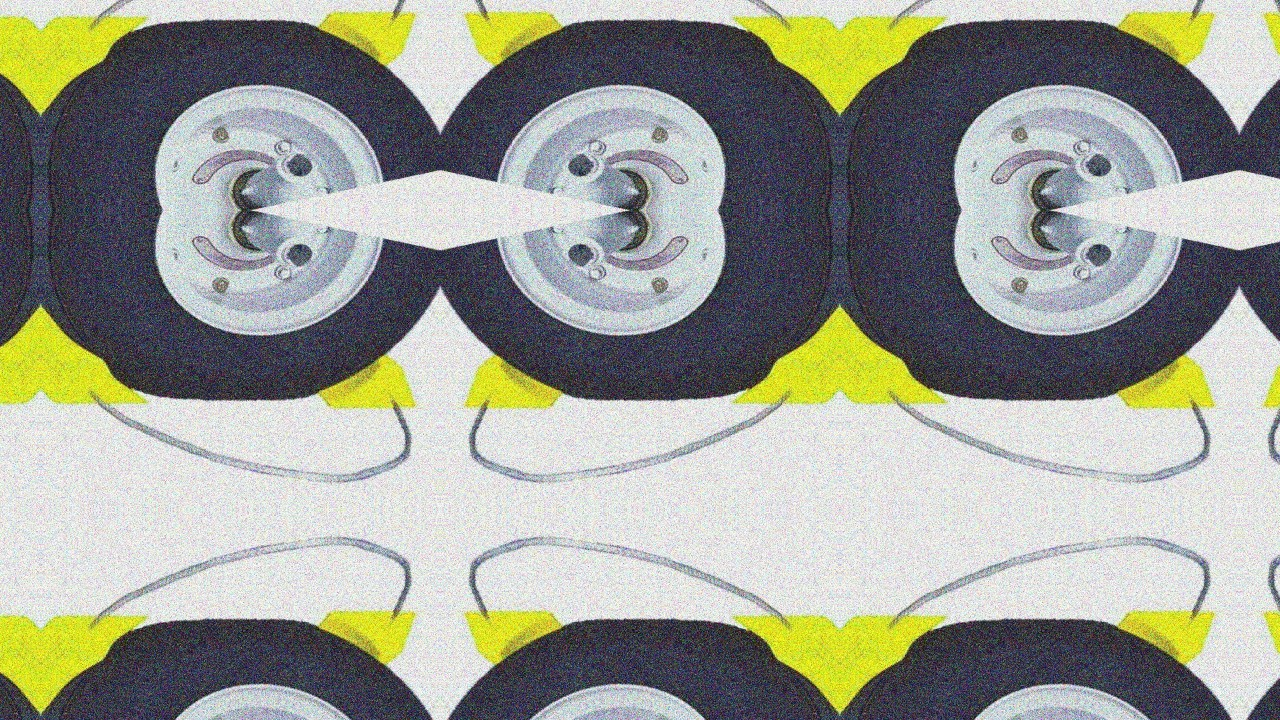chock: (40, 299, 160, 428), (720, 299, 840, 428), (840, 299, 960, 428), (40, 592, 160, 720), (720, 592, 840, 720), (840, 592, 960, 720), (40, 0, 160, 121), (720, 0, 840, 121), (840, 0, 960, 121), (297, 329, 427, 429), (453, 329, 583, 429), (1097, 329, 1227, 429), (297, 591, 427, 691), (453, 591, 583, 691), (1097, 591, 1227, 691), (297, 0, 427, 91), (453, 0, 583, 91), (1097, 0, 1227, 91), (0, 299, 40, 428), (0, 592, 40, 720), (0, 0, 40, 121), (1253, 329, 1280, 429), (1253, 591, 1280, 691), (1253, 0, 1280, 91)
wheel: (40, 210, 440, 470), (440, 210, 840, 470), (840, 210, 1240, 470), (40, 0, 440, 210), (440, 0, 840, 210), (840, 0, 1240, 210), (40, 550, 440, 720), (440, 550, 840, 720), (840, 550, 1240, 720)
